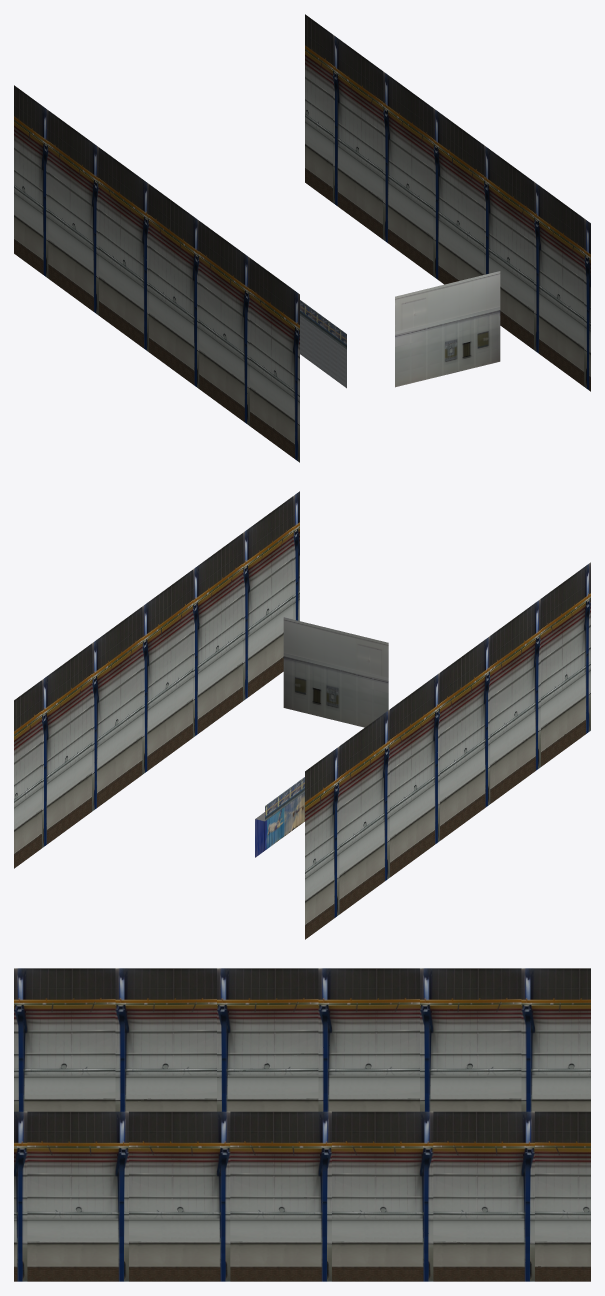
File: cyberzoo_surroundings.dae
The picture shows the model from 3 angles, top to bottom: view 1: azimuth 30°, elevation 25°; view 2: azimuth 150°, elevation 25°; view 3: azimuth 270°, elevation 25°; orthographic projection.
Parts seen in each view (by area): view 1: SketchUp (×5); view 2: SketchUp (×5); view 3: SketchUp (×2).
Part boxes in pixels (x1,y1,x2,y2): SketchUp (×5): [14, 14, 590, 462]; SketchUp (×5): [14, 491, 590, 939]; SketchUp (×2): [14, 968, 590, 1281].
Size of the model in its own units: 925 by 1575 by 512.
8 materials, 7 textured.
